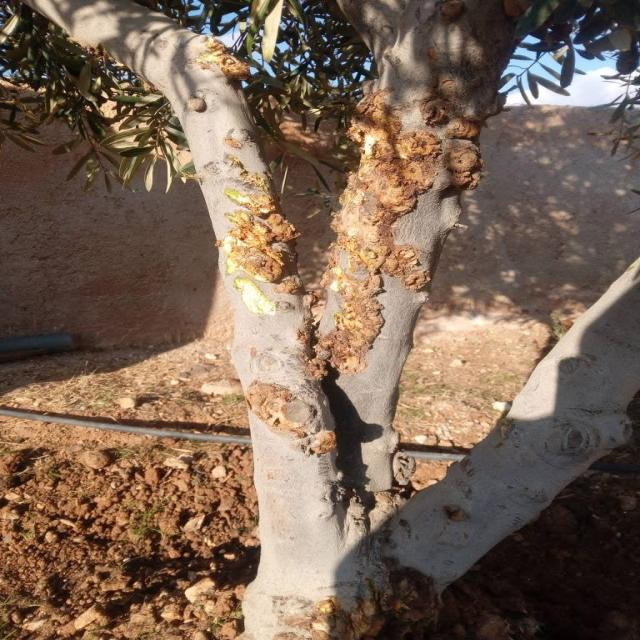Tuberculosis: (311, 89, 442, 378), (218, 171, 306, 300), (200, 38, 251, 82), (447, 143, 484, 193), (438, 0, 478, 23), (188, 95, 207, 113)
